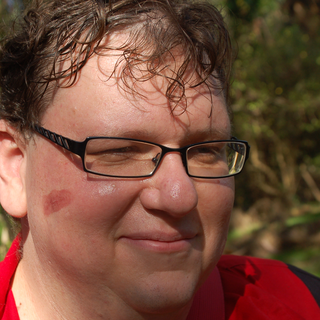eye: (85, 139, 145, 163), (189, 135, 226, 167)
